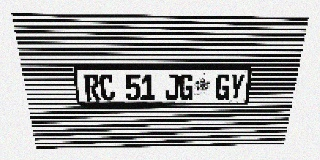1: (140, 74, 155, 100)
5: (125, 74, 140, 100)
C: (99, 74, 115, 101)
G: (215, 74, 231, 100), (179, 74, 194, 100)
J: (165, 74, 179, 100)
R: (84, 74, 101, 101)
Y: (229, 74, 245, 100)
